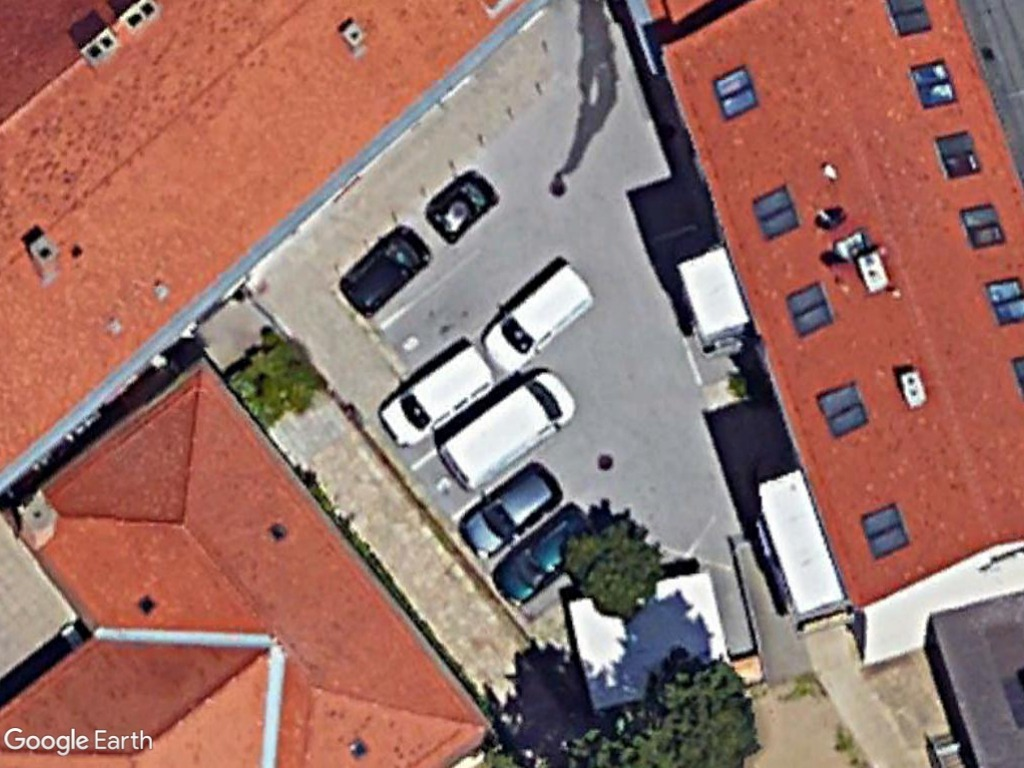car: (493, 502, 597, 610), (456, 459, 567, 559), (337, 214, 435, 319)
van: (431, 362, 577, 500), (479, 261, 597, 375), (378, 341, 493, 454)
